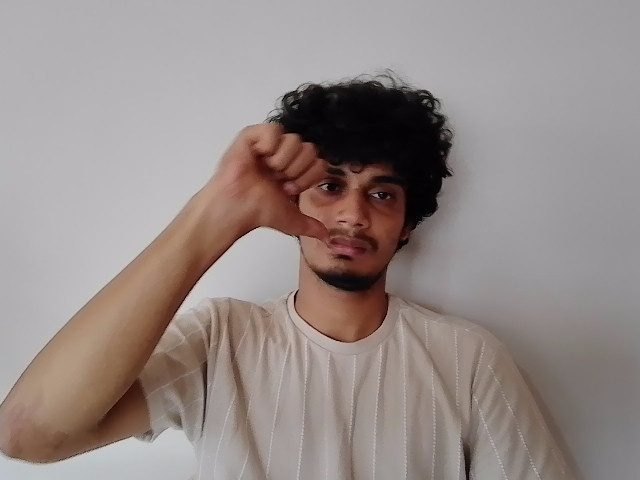drink: (221, 123, 414, 284)
